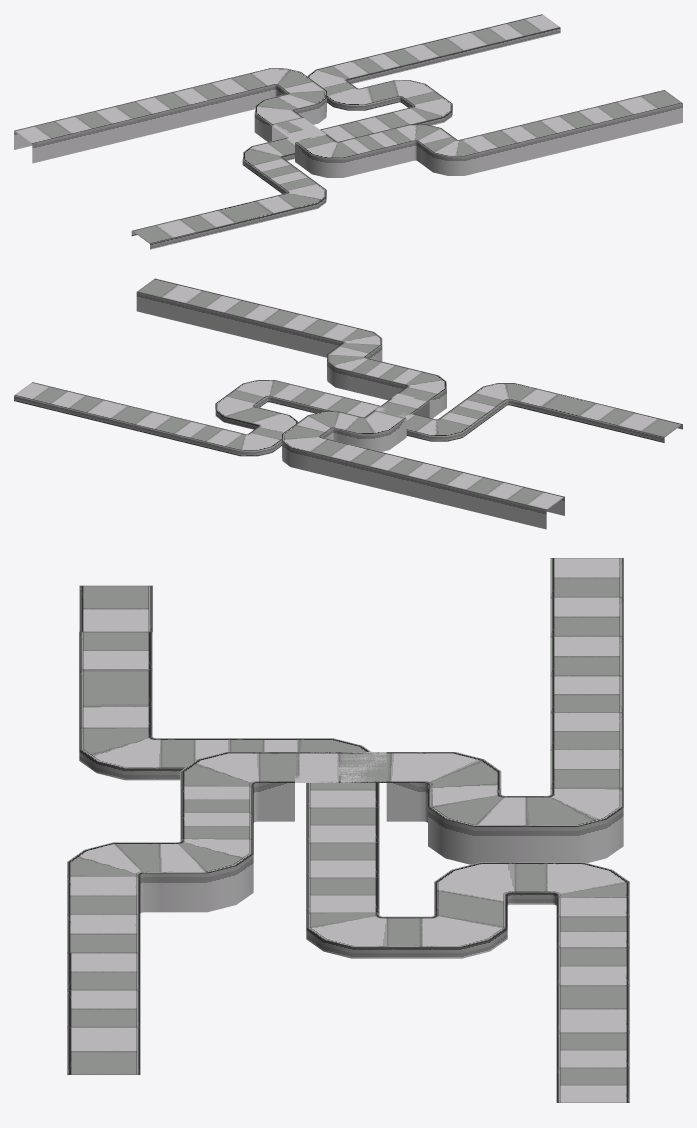
File: nivel_jam01_only_paths.fbx
3 views of the same model, one above another, from view 1: azimuth 30°, elevation 25°; view 2: azimuth 150°, elevation 25°; view 3: azimuth 270°, elevation 25° (orthographic). The views are drawn at different scales.
Parts seen in each view (by area): view 1: Path_P1, Path_P2; view 2: Path_P1, Path_P2; view 3: Path_P1, Path_P2.
Boxes of the visible parts, box(x1,y1,x2,y2) form: Path_P1: box(14, 68, 682, 177); Path_P2: box(131, 14, 560, 249); Path_P1: box(136, 278, 564, 529); Path_P2: box(14, 380, 682, 456); Path_P1: box(67, 558, 623, 1074); Path_P2: box(79, 585, 629, 1102).
Bounding box in the file's own units: 2000 × 70 × 920.
